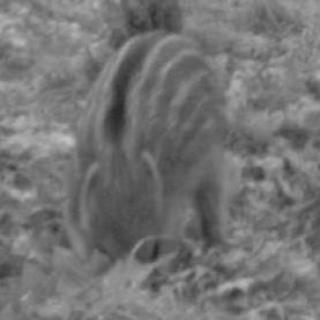Pig: (44, 12, 230, 285)
